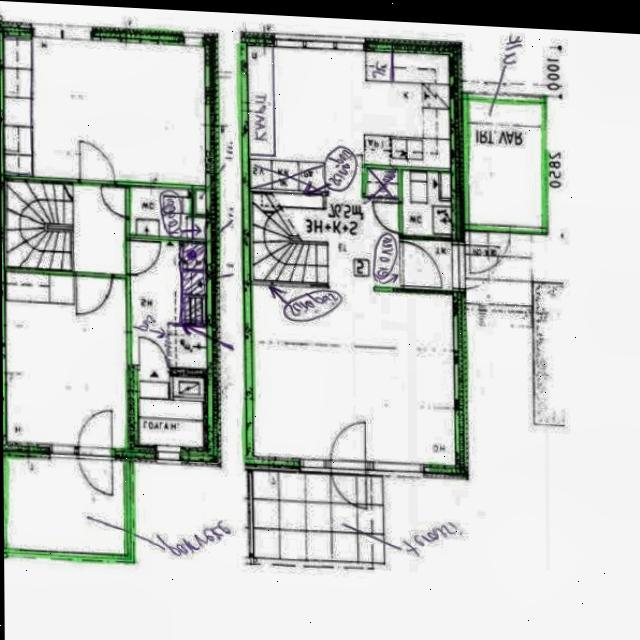room: (0, 35, 213, 187), (5, 270, 126, 448), (130, 237, 207, 370), (138, 369, 204, 446), (127, 186, 208, 239), (402, 168, 452, 238), (403, 238, 453, 290), (375, 287, 378, 288)
